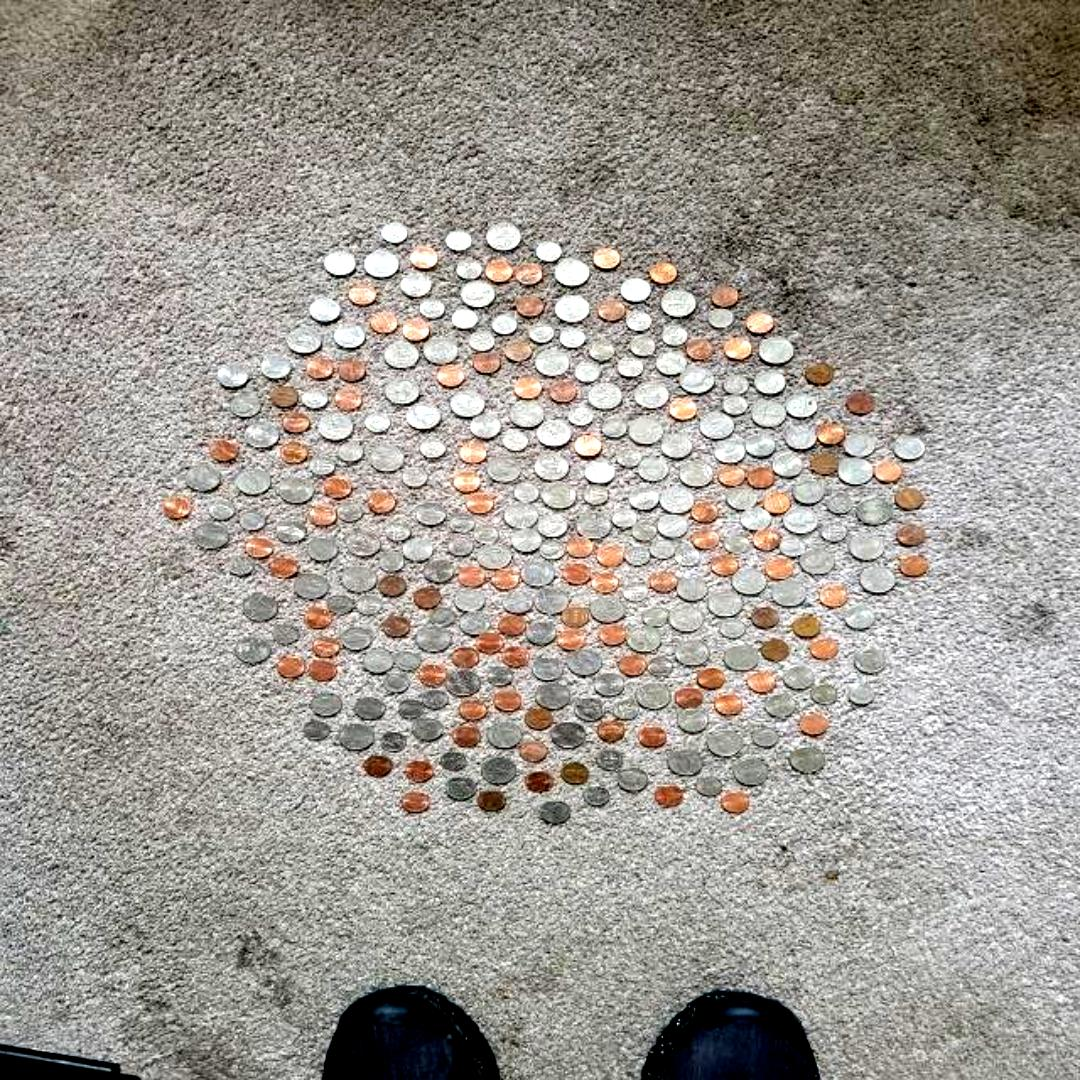Dime: (860, 567, 893, 594), (534, 454, 568, 480), (275, 520, 305, 544), (448, 512, 476, 532), (468, 332, 496, 352), (486, 665, 514, 685), (428, 607, 456, 627), (821, 522, 848, 542), (397, 698, 424, 718), (596, 750, 623, 770), (589, 341, 616, 361), (536, 240, 560, 262), (626, 311, 652, 331), (364, 413, 390, 433), (336, 442, 362, 462), (402, 468, 428, 488), (418, 438, 444, 458), (514, 483, 540, 503), (582, 484, 608, 504), (616, 446, 642, 466), (848, 684, 874, 704), (752, 727, 778, 747), (642, 607, 668, 627), (632, 522, 658, 542), (538, 540, 564, 560), (472, 524, 498, 544), (356, 595, 382, 615), (228, 555, 254, 575), (440, 750, 466, 770), (422, 689, 448, 709), (584, 786, 610, 806), (528, 323, 556, 341), (723, 376, 751, 394), (272, 625, 300, 643), (456, 259, 481, 279), (725, 533, 750, 553), (617, 358, 644, 376), (208, 501, 235, 519), (446, 230, 470, 250), (382, 223, 406, 243), (630, 336, 654, 356), (492, 314, 516, 334), (310, 455, 334, 475), (722, 395, 746, 415), (828, 494, 852, 514), (812, 684, 836, 704), (648, 657, 672, 677), (720, 618, 744, 638), (780, 536, 804, 556), (622, 582, 646, 602), (386, 521, 410, 541), (448, 536, 472, 556), (384, 673, 408, 693), (304, 720, 328, 740), (240, 511, 264, 531), (614, 700, 638, 720), (698, 776, 722, 796), (650, 539, 674, 559), (708, 310, 734, 328), (662, 327, 688, 345), (302, 390, 328, 408), (502, 431, 528, 449), (624, 546, 650, 564), (380, 733, 406, 751), (336, 502, 362, 520), (420, 300, 444, 318), (452, 310, 476, 328), (568, 407, 592, 425), (602, 419, 626, 437), (676, 547, 700, 565), (612, 509, 636, 527), (396, 652, 420, 670), (328, 595, 352, 613), (562, 328, 582, 348), (576, 364, 598, 382)
Nickel: (785, 394, 817, 418), (537, 514, 569, 538), (510, 528, 542, 552), (792, 480, 824, 504), (458, 612, 490, 636), (661, 435, 694, 458), (773, 453, 803, 478), (655, 352, 687, 375), (844, 435, 876, 458), (676, 578, 708, 601), (324, 252, 354, 276), (334, 324, 364, 348), (310, 298, 340, 322), (786, 426, 816, 450), (585, 460, 615, 484), (657, 514, 687, 538), (502, 590, 532, 614), (454, 588, 484, 612), (363, 650, 393, 674), (533, 656, 563, 680), (594, 672, 624, 696), (783, 666, 813, 690), (539, 800, 569, 824), (854, 650, 884, 674), (399, 274, 431, 296), (260, 356, 292, 378), (621, 279, 651, 302), (755, 370, 785, 393), (231, 395, 261, 418), (629, 487, 659, 510), (638, 458, 668, 481), (727, 487, 757, 510), (526, 622, 556, 645), (574, 697, 604, 720), (678, 710, 708, 733), (715, 440, 745, 462), (744, 434, 774, 456), (470, 416, 500, 438), (416, 502, 446, 524), (740, 508, 770, 530), (844, 606, 874, 628), (403, 538, 433, 560), (306, 538, 336, 560), (312, 694, 342, 716), (423, 560, 455, 580), (354, 698, 386, 718), (413, 719, 443, 740), (617, 769, 647, 790), (446, 777, 476, 798), (341, 628, 371, 648), (378, 552, 404, 572)
Penny: (209, 440, 241, 462), (711, 284, 739, 308), (322, 478, 352, 500), (895, 488, 925, 510), (162, 497, 190, 520), (280, 444, 310, 465), (817, 587, 847, 608), (589, 573, 619, 594), (654, 785, 684, 806), (485, 260, 513, 282), (649, 262, 677, 284), (745, 312, 773, 334), (371, 312, 399, 334), (349, 284, 377, 306), (458, 442, 486, 464), (466, 492, 494, 514), (498, 614, 526, 636), (715, 694, 743, 716), (799, 714, 827, 736), (472, 354, 502, 374), (490, 568, 520, 588), (493, 690, 523, 710), (762, 493, 788, 516), (598, 545, 624, 568), (284, 412, 311, 434), (567, 536, 594, 558), (573, 436, 601, 457), (334, 389, 362, 410), (270, 557, 298, 578), (898, 524, 926, 545), (761, 640, 789, 661), (413, 587, 441, 608), (518, 741, 546, 762), (746, 670, 774, 691), (724, 338, 750, 360), (812, 454, 838, 476), (278, 656, 304, 678), (810, 639, 837, 660), (515, 264, 543, 284), (686, 340, 714, 360), (402, 320, 430, 340), (550, 382, 578, 402), (847, 393, 875, 413), (816, 424, 844, 444), (270, 387, 298, 407), (308, 506, 336, 526), (691, 503, 719, 523), (650, 572, 678, 592), (458, 566, 486, 586), (751, 608, 779, 628), (562, 608, 590, 628), (378, 576, 406, 596), (304, 608, 332, 628), (312, 636, 340, 656), (475, 632, 503, 652), (501, 646, 529, 666), (451, 647, 479, 667), (458, 700, 486, 720), (453, 726, 481, 746), (406, 760, 434, 780), (402, 792, 430, 812), (364, 755, 392, 775), (475, 790, 503, 810), (561, 764, 589, 784), (524, 708, 552, 728), (557, 630, 585, 650), (638, 727, 666, 747), (722, 792, 750, 812), (696, 668, 724, 688), (593, 248, 621, 268), (410, 248, 438, 268), (514, 378, 540, 399), (806, 363, 832, 384), (794, 617, 820, 638), (598, 300, 625, 320), (437, 366, 464, 386), (749, 468, 776, 488), (719, 465, 746, 485), (306, 358, 333, 378), (243, 537, 270, 557), (713, 555, 740, 575), (309, 660, 336, 680), (675, 688, 702, 708), (876, 460, 900, 482), (369, 491, 394, 512), (670, 399, 696, 419), (454, 471, 480, 491), (900, 556, 926, 576), (754, 530, 780, 550), (692, 529, 718, 549), (766, 560, 792, 580), (564, 564, 590, 584), (600, 624, 626, 644), (382, 616, 408, 636), (526, 771, 552, 791), (620, 655, 646, 675), (598, 721, 624, 741), (517, 297, 545, 315), (506, 341, 530, 361), (340, 360, 364, 380), (420, 664, 444, 684)
Quarter: (480, 756, 518, 784), (849, 533, 886, 561), (234, 636, 270, 664), (698, 412, 734, 440), (536, 420, 572, 448), (508, 400, 544, 428), (368, 444, 404, 472), (278, 476, 314, 504), (286, 326, 322, 354), (487, 722, 524, 748), (756, 338, 793, 364), (790, 745, 824, 773), (536, 681, 570, 709), (784, 506, 818, 534), (236, 468, 270, 496), (186, 464, 220, 492), (364, 250, 398, 278), (680, 366, 714, 394), (576, 512, 610, 540), (722, 644, 760, 669), (734, 758, 769, 785), (415, 625, 450, 652), (444, 670, 480, 696), (626, 626, 662, 652), (770, 580, 806, 606), (856, 498, 892, 524), (838, 458, 874, 484), (634, 382, 670, 408), (244, 422, 280, 448), (708, 728, 742, 755), (244, 595, 278, 622), (542, 481, 576, 508), (536, 350, 570, 377), (195, 522, 230, 548), (503, 502, 538, 528), (680, 459, 712, 487), (320, 413, 352, 441), (386, 340, 418, 368), (462, 280, 494, 308), (662, 290, 694, 318), (488, 223, 520, 251), (669, 749, 702, 776), (342, 566, 376, 592), (346, 530, 380, 556), (534, 588, 568, 614), (732, 568, 766, 594), (554, 260, 588, 286), (552, 720, 584, 747), (674, 640, 710, 664), (670, 604, 702, 631), (488, 455, 520, 482), (406, 404, 442, 428), (636, 682, 669, 708), (708, 590, 741, 616), (752, 400, 785, 426), (589, 384, 622, 410), (450, 391, 484, 416), (567, 650, 602, 674), (340, 724, 372, 750), (592, 596, 624, 622), (802, 548, 834, 574), (630, 418, 662, 444), (386, 378, 418, 404), (424, 338, 456, 364), (556, 296, 588, 322), (520, 562, 554, 586), (660, 488, 694, 512), (294, 574, 326, 598), (478, 544, 510, 568), (893, 436, 925, 459), (765, 694, 795, 716), (218, 364, 248, 386)
